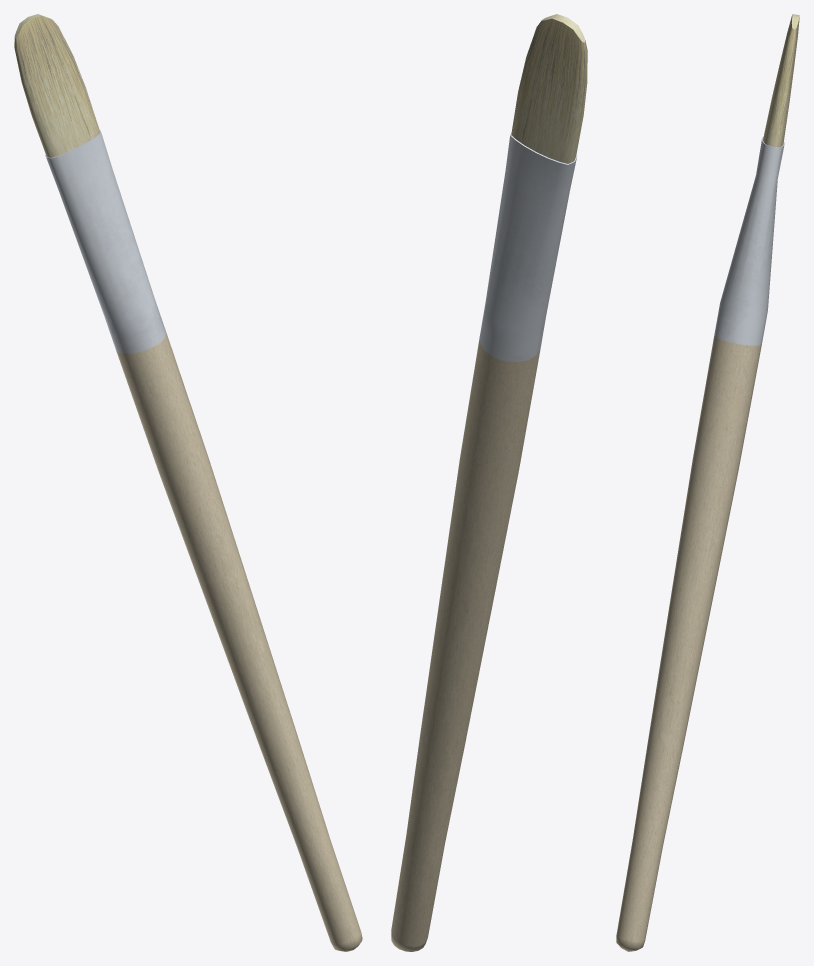
Rendered from brush_white.glb.
The picture shows the model from 3 angles, left to right: view 1: azimuth 30°, elevation 25°; view 2: azimuth 150°, elevation 25°; view 3: azimuth 270°, elevation 25°; orthographic projection. The views are drawn at different scales.
Visible parts, largest first — view 1: PaintBrush3v2; view 2: PaintBrush3v2; view 3: PaintBrush3v2.
Boxes of the visible parts, x1,y1,x2,y2 form: PaintBrush3v2: (14, 14, 362, 951); PaintBrush3v2: (391, 14, 587, 951); PaintBrush3v2: (616, 14, 799, 951).
Size of the model in its own units: 0.0613 by 0.2108 by 0.0419.
1 material, 1 textured.
